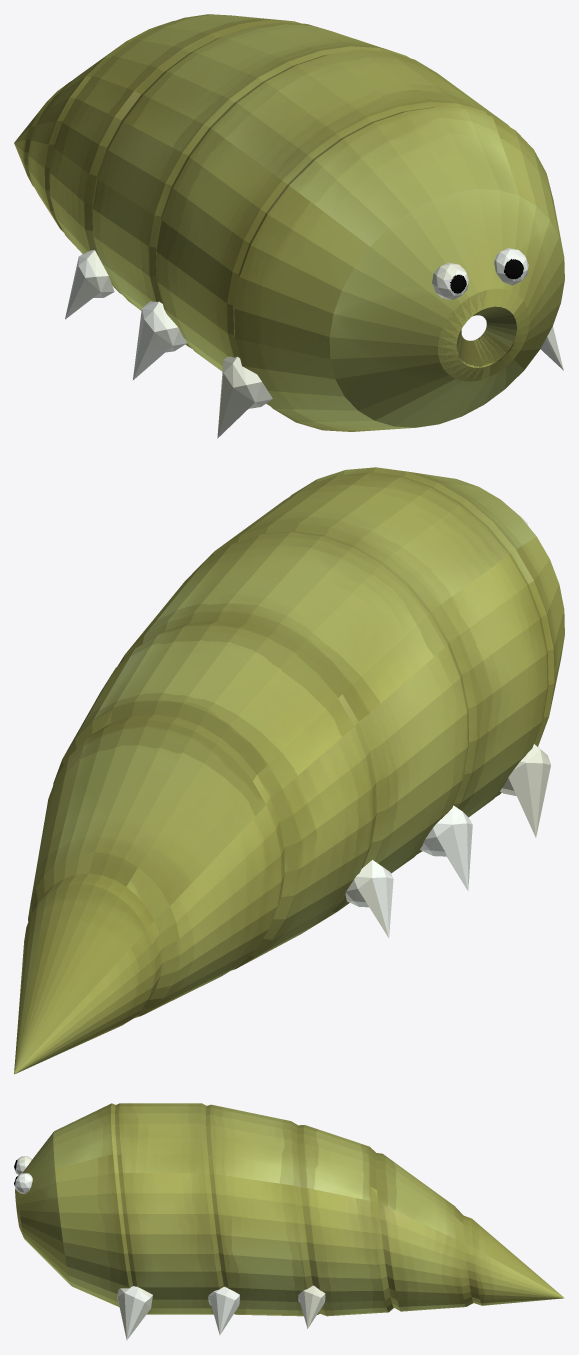
The model's file is grub_rig3f.glb.
3 renders of one model, top to bottom at view 1: azimuth 30°, elevation 25°; view 2: azimuth 150°, elevation 25°; view 3: azimuth 270°, elevation 25°, orthographic. The views are drawn at different scales.
Visible parts, largest first — view 1: grub; view 2: grub; view 3: grub.
Boxes of the visible parts, box(x1,y1,x2,y2) form: grub: box(14, 14, 564, 438); grub: box(14, 467, 564, 1074); grub: box(14, 1103, 564, 1340).
Bounding box in the file's own units: 0.5893 × 0.5585 × 1.44.
1 material, 1 textured.
